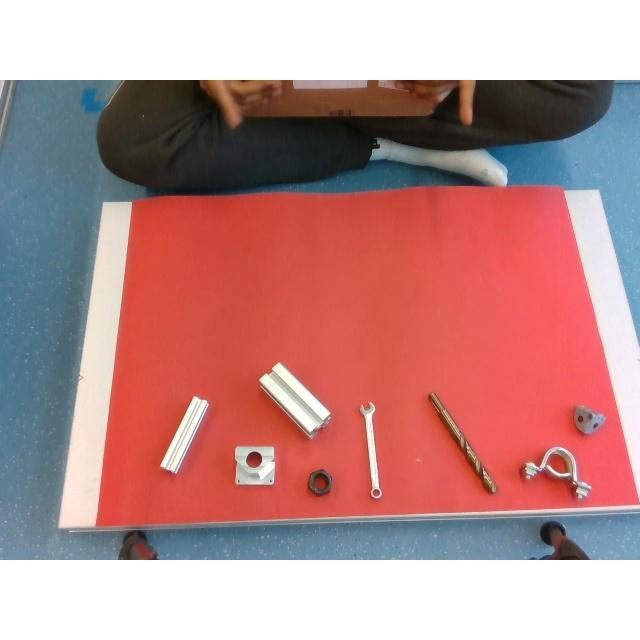Drill: (429, 392, 497, 492)
F20_20_G: (160, 396, 208, 472)
Housing: (521, 446, 591, 500)
M20: (307, 469, 333, 495)
S40_40_G: (258, 362, 330, 438)
